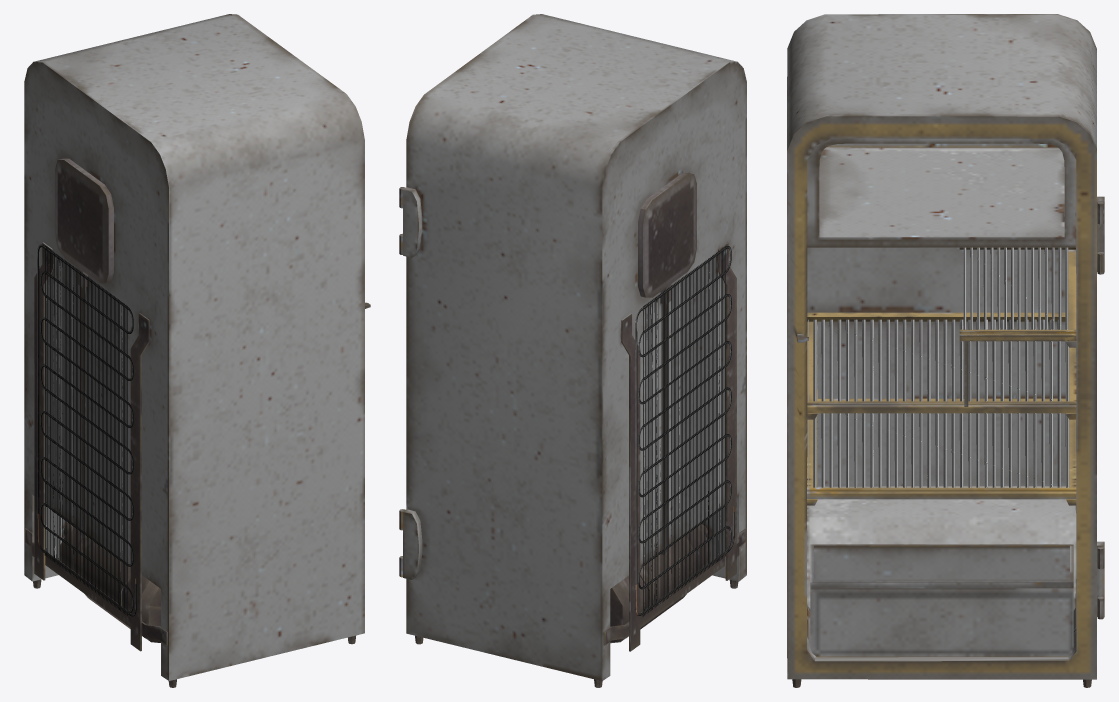
Rendered from Fridge.fbx.
3 views of the same model, side by side, from view 1: azimuth 30°, elevation 25°; view 2: azimuth 150°, elevation 25°; view 3: azimuth 270°, elevation 25° (orthographic). The views are drawn at different scales.
Visible parts, largest first — view 1: Fridge; view 2: Fridge; view 3: Fridge.
Part boxes in pixels (<box>): Fridge: <box>24,14,370,687</box>; Fridge: <box>399,14,746,687</box>; Fridge: <box>787,14,1104,687</box>.
Bounding box in the file's own units: 92.02 × 77.48 × 183.
